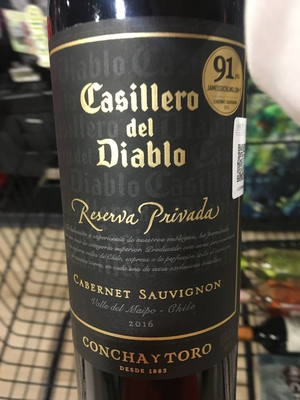casillero del diablo reserva privada cabernet sauvignon: (49, 8, 260, 400)
